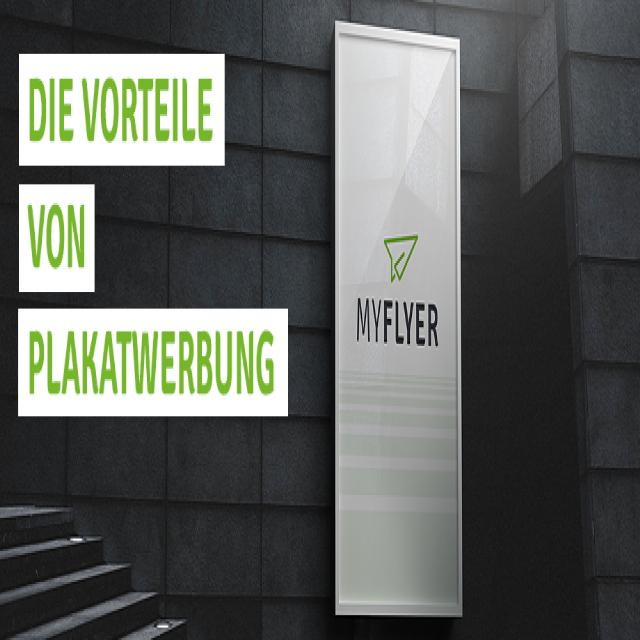Werbetafel frei: (332, 16, 466, 623)
